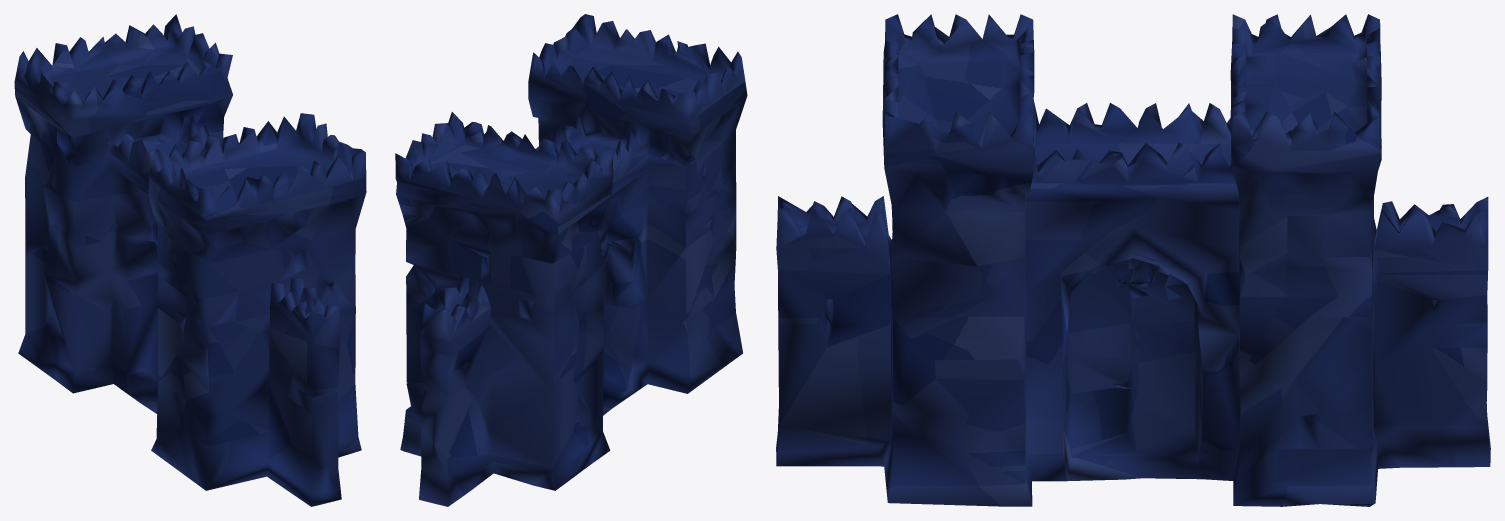
The model's file is castle_gate_diamond_blue_lo.glb.
3 renders of one model, left to right at view 1: azimuth 30°, elevation 25°; view 2: azimuth 150°, elevation 25°; view 3: azimuth 270°, elevation 25°, orthographic. The views are drawn at different scales.
Visible parts, largest first — view 1: tripo_node_0a6a371f-e985-4717-9263-0b98bedda75f; view 2: tripo_node_0a6a371f-e985-4717-9263-0b98bedda75f; view 3: tripo_node_0a6a371f-e985-4717-9263-0b98bedda75f.
Boxes of the visible parts, x1=… form: tripo_node_0a6a371f-e985-4717-9263-0b98bedda75f: x1=14, y1=14, x2=366, y2=506; tripo_node_0a6a371f-e985-4717-9263-0b98bedda75f: x1=395, y1=14, x2=747, y2=506; tripo_node_0a6a371f-e985-4717-9263-0b98bedda75f: x1=776, y1=14, x2=1490, y2=506.
Size of the model in its own units: 0.3373 by 0.5934 by 0.9777.
Materials: 1 (1 with a texture image).
